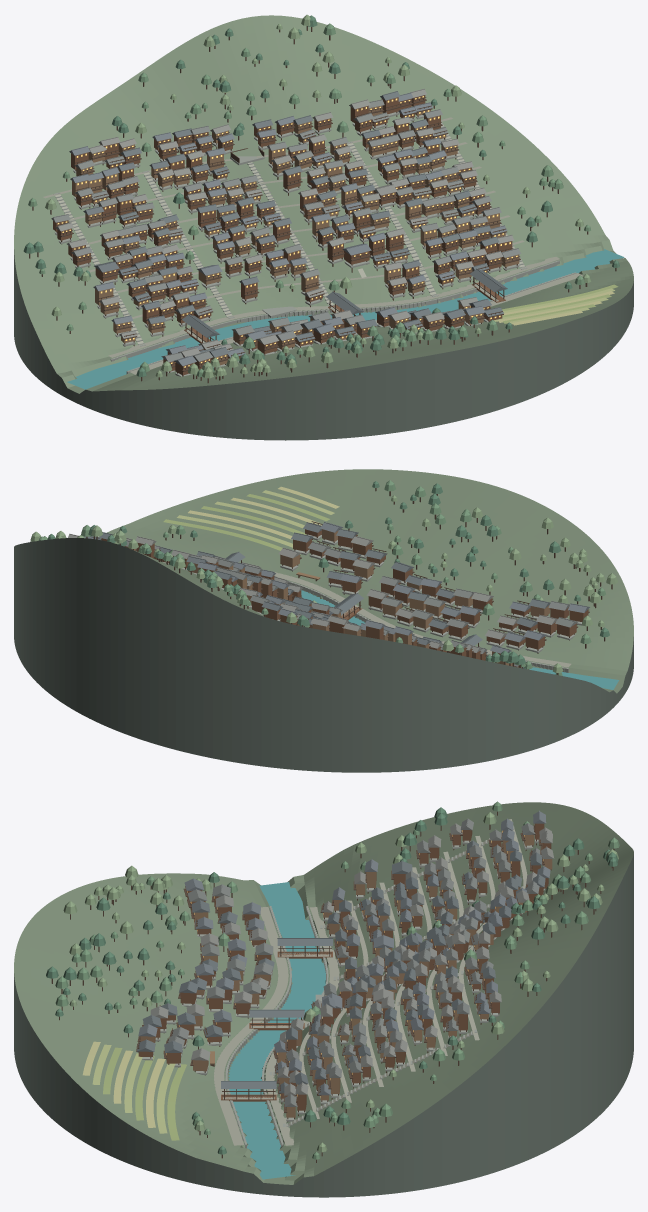
File: xijiang-valley.glb
3 renders of one model, top to bottom at view 1: azimuth 30°, elevation 25°; view 2: azimuth 150°, elevation 25°; view 3: azimuth 270°, elevation 25°, orthographic. The views are drawn at different scales.
Parts seen in each view (by area): view 1: Earth • moss and soil.001, Cut earth • layered edge.001, Timber • aged chestnut.001, Posts and balcony rails.001, Timber • warm variation.001, River embankments • grey stone.001, Grey tile 0.001, Grey tile 1.001, Grey tile 2.001, Grey tile 3.001, Walking lanes • pale stone.001, Baishui River.001 (+7 smaller); view 2: Cut earth • layered edge.001, Earth • moss and soil.001, Timber • aged chestnut.001, Grey tile 0.001, Forest 2.001, Forest 0.001, Grey tile 2.001, Timber • warm variation.001, Grey tile 3.001, Grey tile 1.001, Forest 1.001, River embankments • grey stone.001 (+6 smaller); view 3: Earth • moss and soil.001, Cut earth • layered edge.001, Grey tile 1.001, Grey tile 0.001, Timber • aged chestnut.001, Walking lanes • pale stone.001, Baishui River.001, Grey tile 2.001, Grey tile 3.001, Posts and balcony rails.001, River embankments • grey stone.001, Forest 0.001 (+6 smaller).
Boxes of the visible parts, x1,y1,x2,y2 form: Earth • moss and soil.001: (14, 15, 633, 393); Cut earth • layered edge.001: (14, 249, 633, 440); Timber • aged chestnut.001: (53, 95, 512, 375); Posts and balcony rails.001: (29, 26, 616, 383); Timber • warm variation.001: (72, 105, 519, 365); River embankments • grey stone.001: (54, 111, 576, 376); Grey tile 0.001: (83, 91, 507, 357); Grey tile 1.001: (51, 99, 521, 362); Grey tile 2.001: (55, 88, 514, 356); Grey tile 3.001: (69, 92, 507, 366); Walking lanes • pale stone.001: (43, 117, 582, 374); Baishui River.001: (67, 248, 624, 389); Cut earth • layered edge.001: (14, 538, 633, 772); Earth • moss and soil.001: (98, 469, 633, 693); Timber • aged chestnut.001: (101, 529, 588, 660); Grey tile 0.001: (99, 522, 550, 657); Forest 2.001: (30, 495, 617, 672); Forest 0.001: (47, 481, 609, 664); Grey tile 2.001: (68, 533, 557, 652); Timber • warm variation.001: (124, 529, 549, 667); Grey tile 3.001: (85, 522, 589, 666); Grey tile 1.001: (83, 536, 577, 653); Forest 1.001: (38, 480, 605, 675); River embankments • grey stone.001: (181, 534, 583, 672); Earth • moss and soil.001: (14, 802, 633, 1184); Cut earth • layered edge.001: (14, 854, 633, 1197); Grey tile 1.001: (168, 818, 541, 1106); Grey tile 0.001: (137, 840, 545, 1093); Timber • aged chestnut.001: (138, 823, 551, 1110); Walking lanes • pale stone.001: (214, 819, 527, 1145); Baishui River.001: (228, 882, 325, 1179); Grey tile 2.001: (150, 823, 554, 1095); Grey tile 3.001: (138, 810, 550, 1095); Posts and balcony rails.001: (51, 811, 614, 1162); River embankments • grey stone.001: (142, 826, 544, 1148); Forest 0.001: (46, 807, 618, 1154).
Bounding box in the file's own units: 76 × 24.77 × 66.
